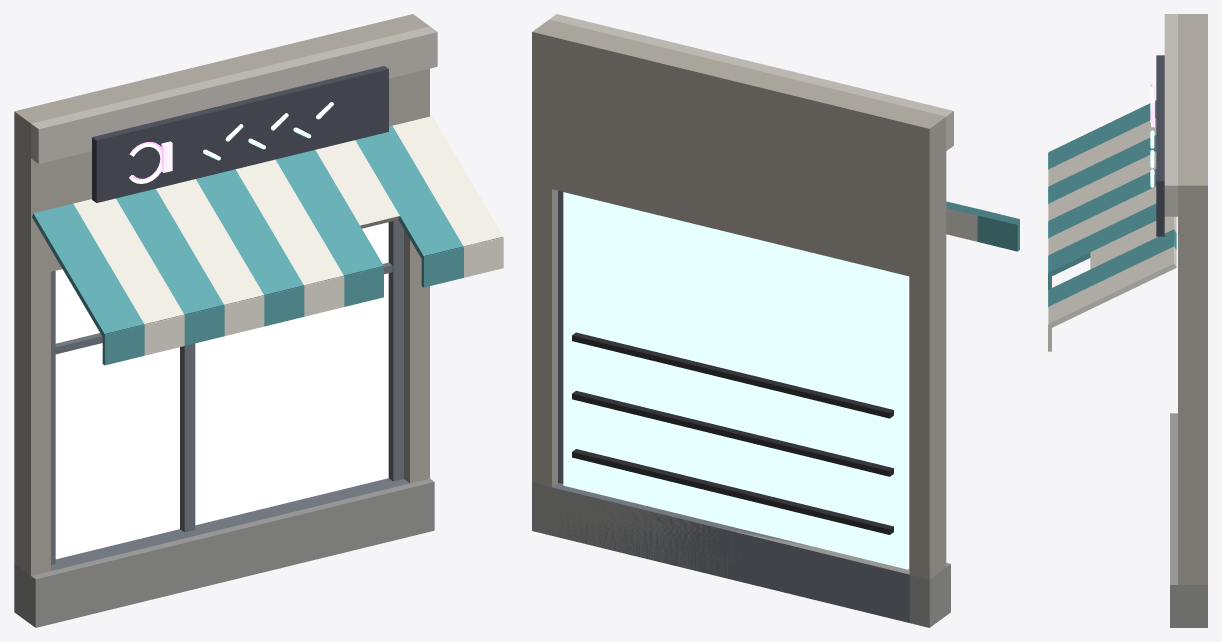
Rendered from ground_shop.glb.
The picture shows the model from 3 angles, left to right: view 1: azimuth 30°, elevation 25°; view 2: azimuth 150°, elevation 25°; view 3: azimuth 270°, elevation 25°; orthographic projection. The views are drawn at different scales.
Parts seen in each view (by area): view 1: ground_shop; view 2: ground_shop; view 3: ground_shop.
Part boxes in pixels (left/top/right/bottom): ground_shop: left=14, top=14, right=503, bottom=627; ground_shop: left=532, top=14, right=1019, bottom=627; ground_shop: left=1048, top=14, right=1207, bottom=627.
Bounding box in the file's own units: 3 × 3.6 × 1.18.
